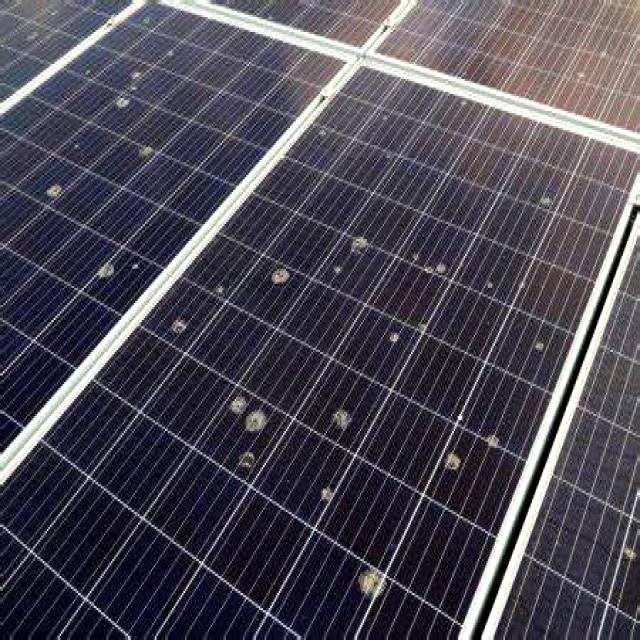bird: (225, 388, 270, 483), (113, 65, 160, 121), (430, 440, 480, 492), (414, 236, 454, 292), (90, 254, 148, 291), (353, 564, 399, 602), (266, 259, 308, 290), (41, 171, 72, 210), (166, 308, 203, 340), (315, 472, 344, 510), (524, 326, 554, 361), (330, 407, 361, 439), (535, 185, 565, 218), (138, 134, 164, 170), (512, 259, 536, 298), (212, 272, 234, 314), (627, 529, 640, 598), (384, 324, 411, 352), (353, 234, 377, 262), (482, 426, 504, 456), (481, 258, 498, 294)
